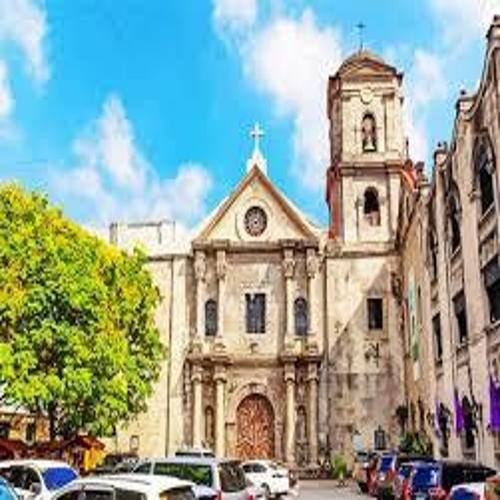San Agustin Church: (179, 17, 421, 465)
